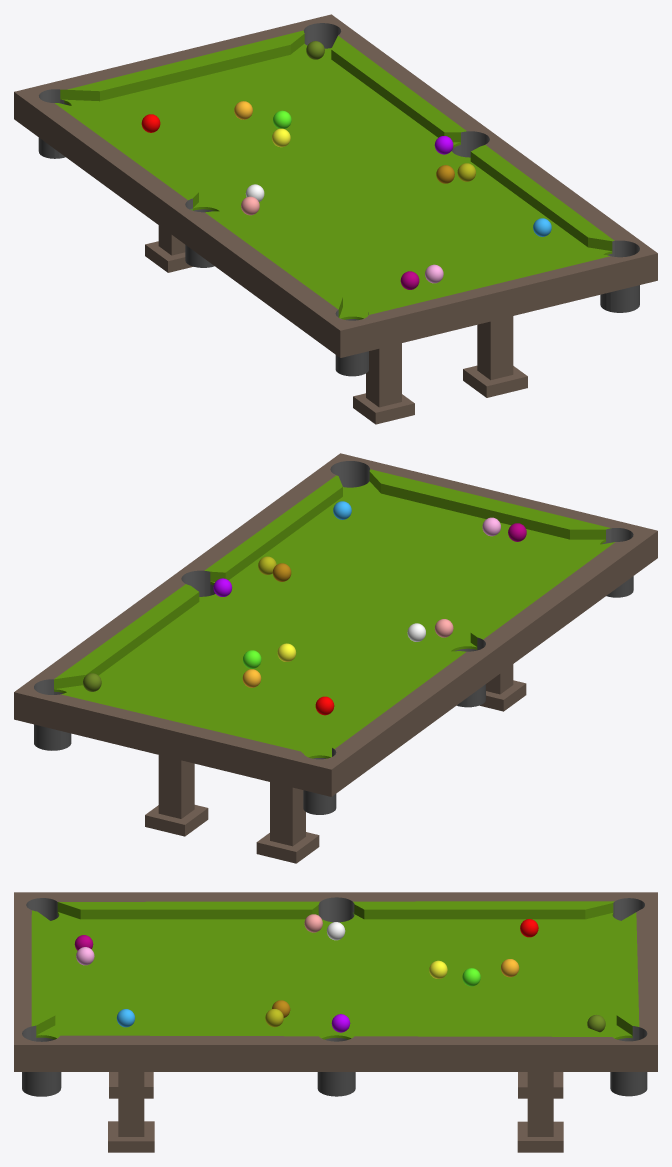
Rendered from simple_pool_table.glb.
3 views of the same model, one above another, from view 1: azimuth 30°, elevation 25°; view 2: azimuth 150°, elevation 25°; view 3: azimuth 270°, elevation 25° (orthographic).
Visible parts, largest first — view 1: Material3, Material2 (×3); view 2: Material3, Material2 (×3); view 3: Material3, Material2 (×3).
Part boxes in pixels (x1,y1,x2,y2): Material3: (55,30,614,319); Material2 (×3): (14,14,657,424); Material3: (54,469,614,758); Material2 (×3): (14,453,657,863); Material3: (31,901,639,1039); Material2 (×3): (14,892,657,1152).
Bounding box in the file's own units: 169 × 79.38 × 300.
